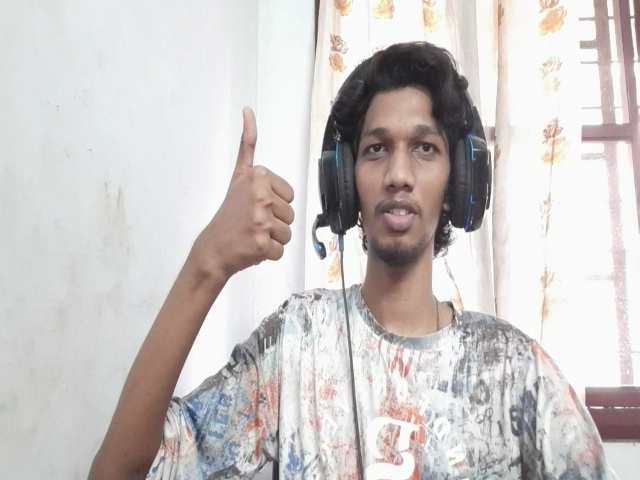ThumbsUp: (200, 107, 295, 273)
